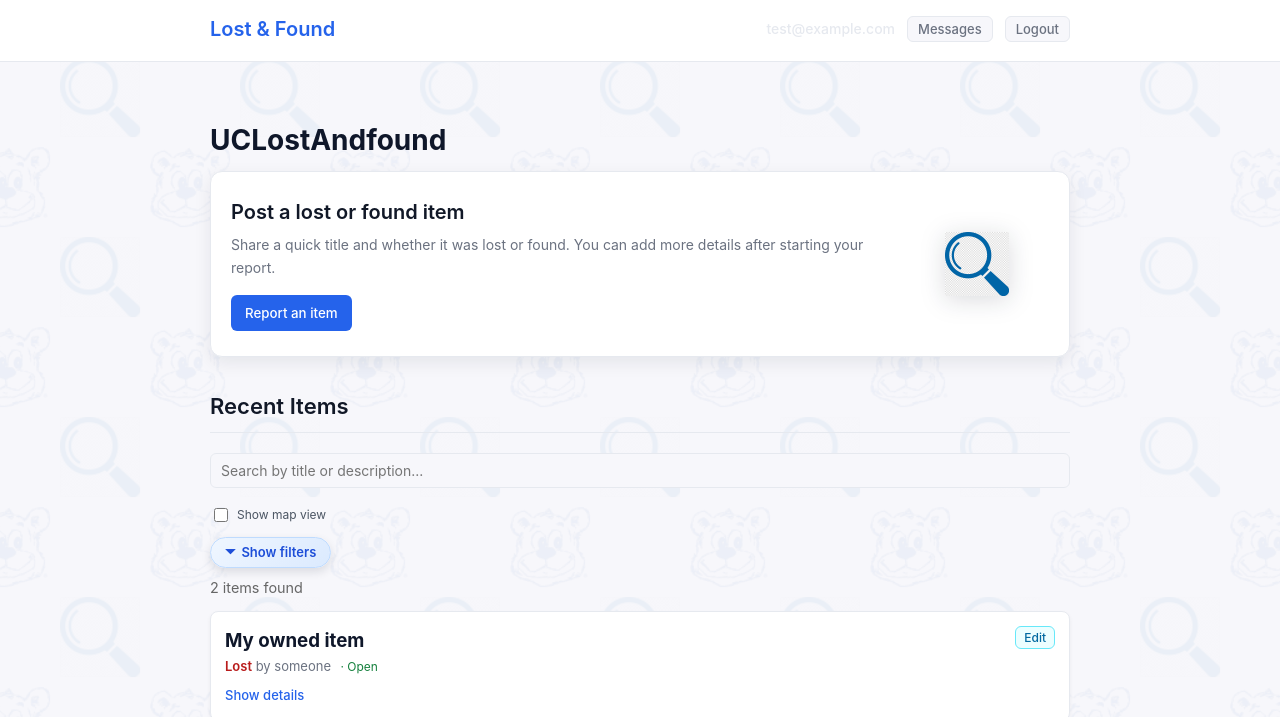
Items filters › filters to only items created by the current user when "My posts only" is selected
Expected: the heading "My owned item" is shown, [225, 626, 378, 656]
Click the button "Show filters" at (271, 552), box [210, 537, 331, 568]
(page scrolled)
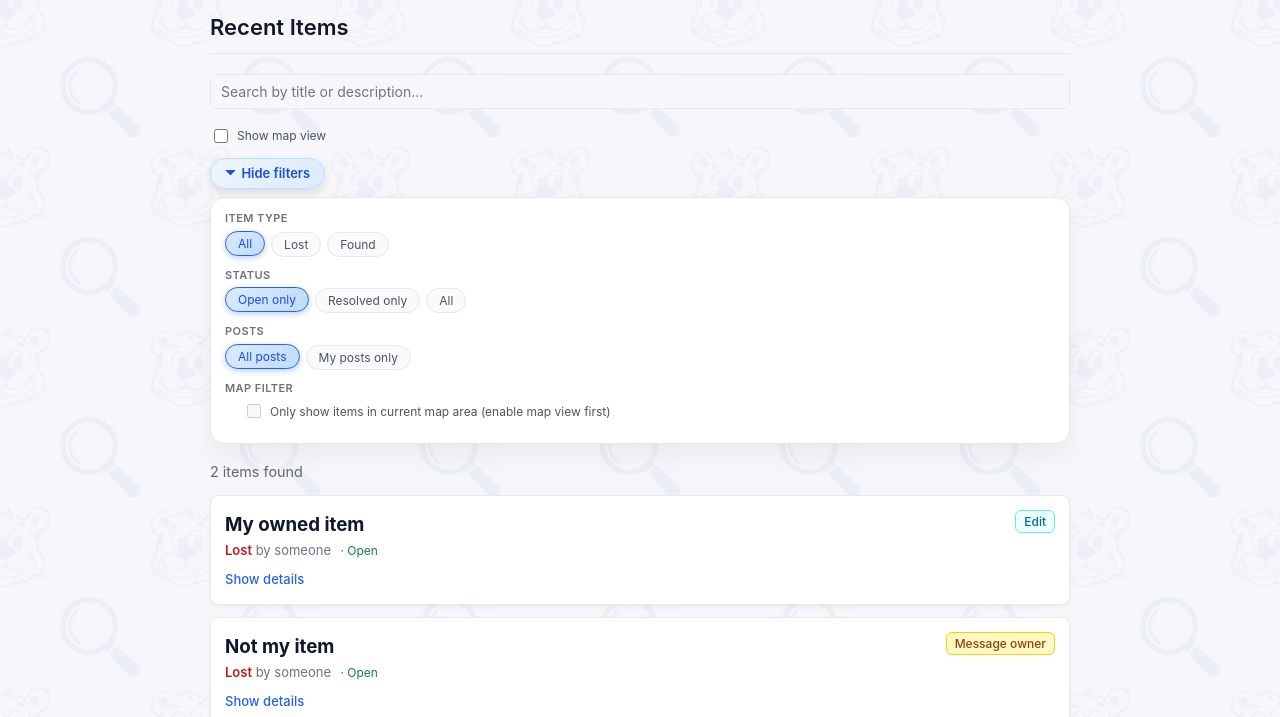
Click the button "My posts only" at (358, 357), box [306, 345, 411, 370]
(page scrolled)
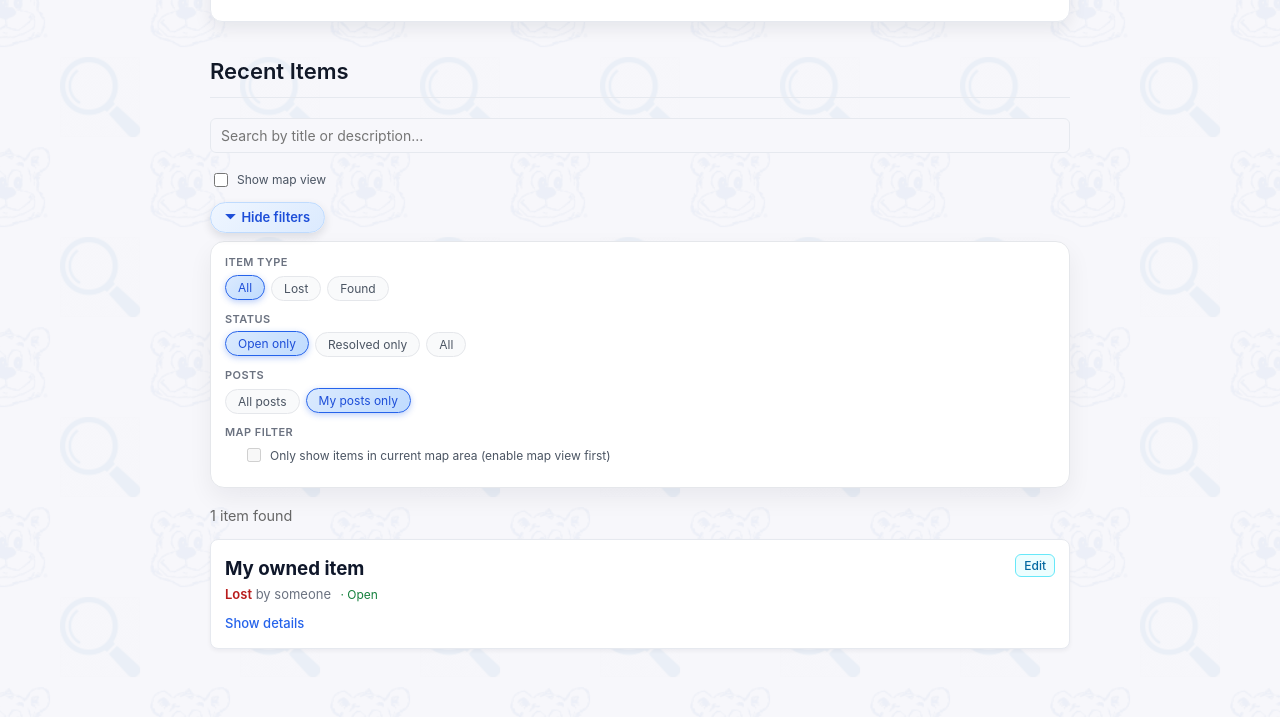
Expected: the heading "My owned item" is shown, [225, 554, 378, 584]
Result: the heading "Not my item" is gone
